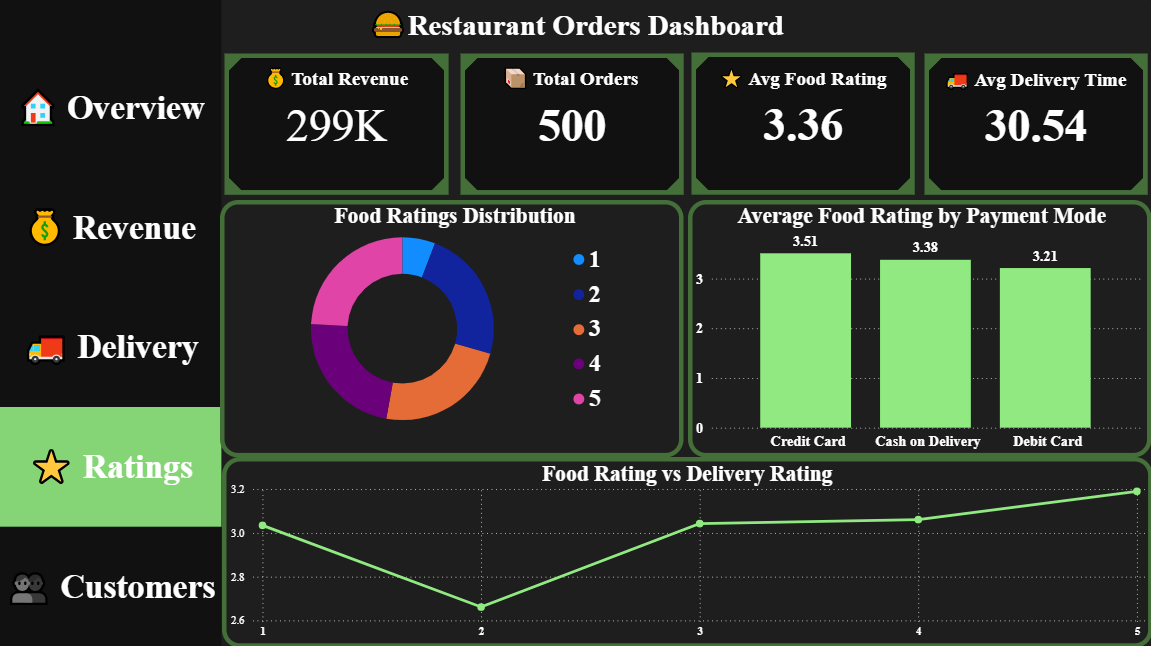

The dashboard page shown, as its layout file describes it:
{"tool":"powerbi","page":{"name":"Overview","canvas":[1280,720],"ordinal":0},"visuals":[{"type":"shape","box":[0,0,246.2,720],"z":0},{"type":"textbox","box":[0,0,1280,55],"z":1000},{"type":"textbox","box":[0,54.4,246.9,132.9],"z":2000},{"type":"textbox","box":[0,187.4,245.6,132.9],"z":3000},{"type":"textbox","box":[0,320.3,245.6,132.9],"z":4000},{"type":"textbox","box":[0,453.3,245.6,132.9],"z":5000},{"type":"textbox","box":[0,586.2,245.6,132.9],"z":6000},{"type":"cardVisual","fields":{"Data":["Sum(restaurant_orders_db order.Order Amount)"]},"box":[244.4,55.4,259.5,167.6],"z":7000},{"type":"textbox","box":[259.8,67.3,227.5,53.8],"z":8000},{"type":"cardVisual","fields":{"Data":["CountNonNull(restaurant_orders_db order.Order ID)"]},"box":[506.5,55.4,258.3,167.6],"z":9000},{"type":"textbox","box":[519.5,67.3,227.5,53.8],"z":10000},{"type":"cardVisual","fields":{"Data":["Avg(restaurant_orders_db order.Customer Rating-Food)"]},"box":[763.5,54.2,258.3,168.8],"z":11000},{"type":"textbox","box":[778,67.3,227.5,53.8],"z":12000},{"type":"cardVisual","fields":{"Data":["Avg(restaurant_orders_db order.Delivery Time Taken (mins))"]},"box":[1021.7,55.4,258.3,167.6],"z":13000},{"type":"textbox","box":[1036.4,68.6,227.5,52.5],"z":14000},{"type":"donutChart","fields":{"Category":["restaurant_orders_db order.Payment Mode"],"Y":["Sum(restaurant_orders_db order.Order Amount)"]},"box":[246.9,223,515.3,286],"z":15000},{"type":"textbox","box":[245.7,224.3,517.8,44.1],"z":16000},{"type":"barChart","fields":{"Category":["restaurant_orders_db order.Customer Name"],"Y":["Sum(restaurant_orders_db order.Order Amount)"]},"box":[764.7,223,515.3,286],"z":17000},{"type":"textbox","box":[762.2,223,517.8,45.4],"z":18000},{"type":"lineChart","fields":{"Category":["restaurant_orders_db order.Customer Rating-Food"],"Y":["Avg(restaurant_orders_db order.Delivery Time Taken (mins))"]},"box":[244.4,510.2,1033.1,210.4],"z":19000},{"type":"textbox","box":[374.2,509,816.4,37.8],"z":20000}]}

Visuals, with their boxes in screenshot pixels (x1, y1, x2, y2), scaled from the page's 1280x720 canvas onto the 1151x646 screenshot:
shape: left=0, top=0, right=221, bottom=645
textbox: left=0, top=0, right=1150, bottom=49
textbox: left=0, top=49, right=222, bottom=168
textbox: left=0, top=168, right=221, bottom=287
textbox: left=0, top=287, right=221, bottom=407
textbox: left=0, top=407, right=221, bottom=526
textbox: left=0, top=526, right=221, bottom=645
cardVisual - Sum(restaurant_orders_db order.Order Amount): left=220, top=50, right=453, bottom=200
textbox: left=234, top=60, right=438, bottom=109
cardVisual - CountNonNull(restaurant_orders_db order.Order ID): left=455, top=50, right=688, bottom=200
textbox: left=467, top=60, right=672, bottom=109
cardVisual - Avg(restaurant_orders_db order.Customer Rating-Food): left=687, top=49, right=919, bottom=200
textbox: left=700, top=60, right=904, bottom=109
cardVisual - Avg(restaurant_orders_db order.Delivery Time Taken (mins)): left=919, top=50, right=1150, bottom=200
textbox: left=932, top=62, right=1137, bottom=109
donutChart - restaurant_orders_db order.Payment Mode x Sum(restaurant_orders_db order.Order Amount): left=222, top=200, right=685, bottom=457
textbox: left=221, top=201, right=687, bottom=241
barChart - restaurant_orders_db order.Customer Name x Sum(restaurant_orders_db order.Order Amount): left=688, top=200, right=1150, bottom=457
textbox: left=685, top=200, right=1150, bottom=241
lineChart - restaurant_orders_db order.Customer Rating-Food x Avg(restaurant_orders_db order.Delivery Time Taken (mins)): left=220, top=458, right=1149, bottom=645
textbox: left=336, top=457, right=1071, bottom=491
